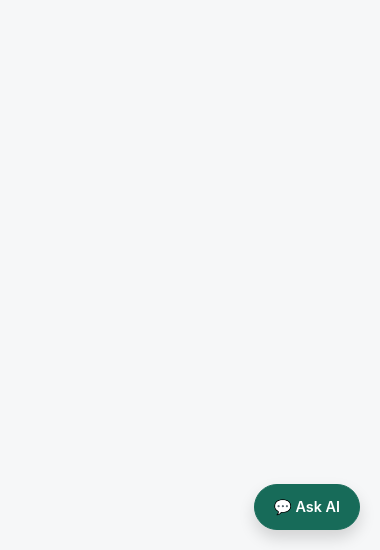
ChatAssistant › is closed at first and opens with a welcome message
Click the button "💬 Ask AI". click: (307, 507)
box: left=254, top=484, right=360, bottom=530
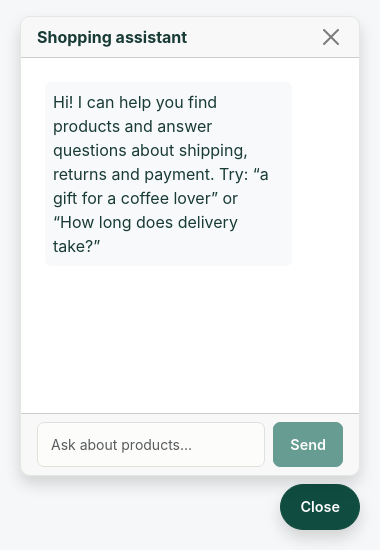
Check: the text "I can help you find products" is shown, box left=53, top=92, right=273, bottom=256
Check: the button "Send" is disabled, box left=273, top=422, right=343, bottom=467
